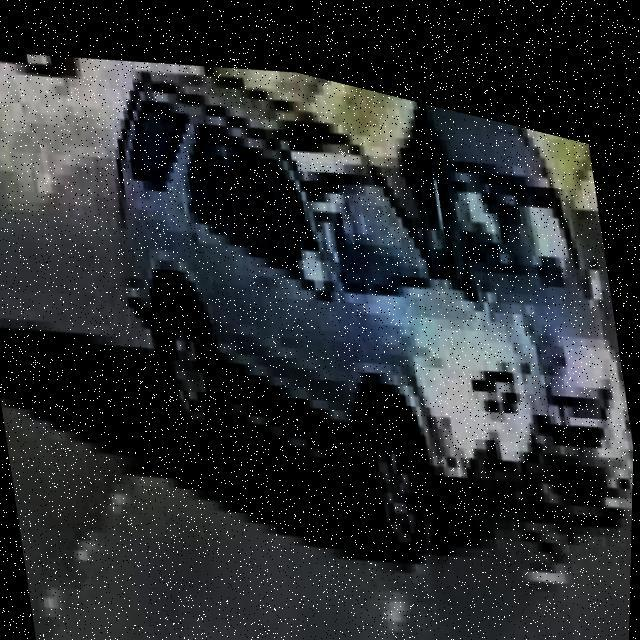Car Accident Detector - v4 Generation1 Exported: (85, 18, 640, 604)
